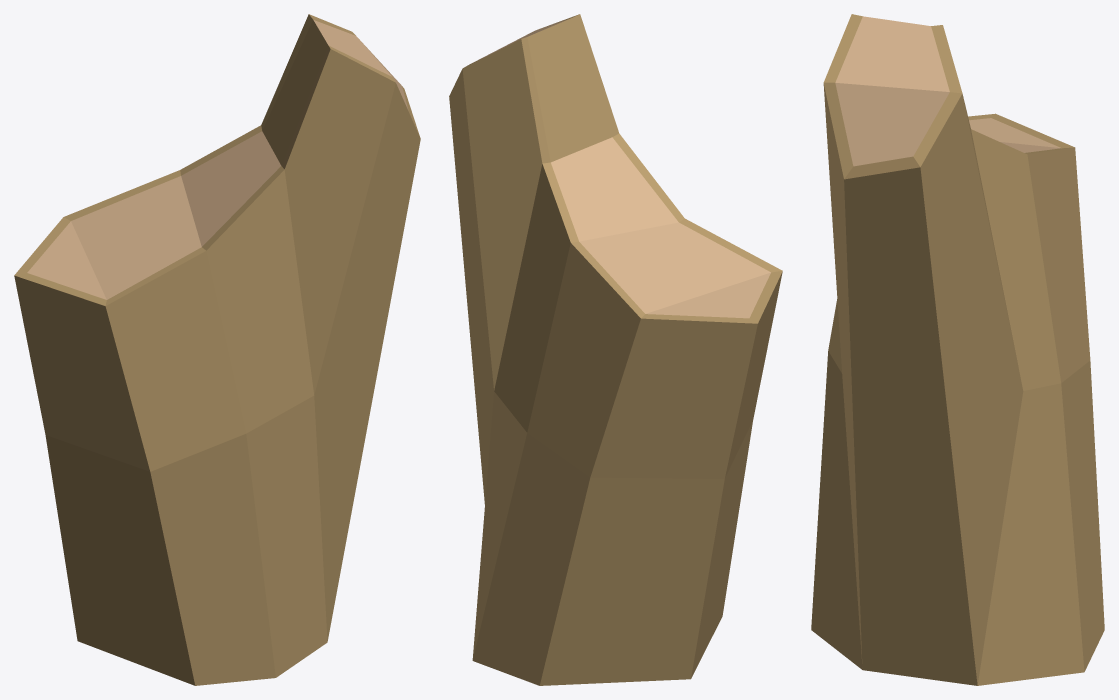
Rendered from Acacia_Stump_02_LOD.fbx.
The picture shows the model from 3 angles, left to right: view 1: azimuth 30°, elevation 25°; view 2: azimuth 150°, elevation 25°; view 3: azimuth 270°, elevation 25°; orthographic projection. The views are drawn at different scales.
Visible parts, largest first — view 1: Acacia_Stump_02_LOD0; view 2: Acacia_Stump_02_LOD0; view 3: Acacia_Stump_02_LOD0.
Part boxes in pixels (x1,y1,x2,y2): Acacia_Stump_02_LOD0: (14, 14, 420, 685); Acacia_Stump_02_LOD0: (449, 14, 782, 685); Acacia_Stump_02_LOD0: (811, 14, 1104, 685).
Size of what is drawn, in the model's own units: 110 by 176 by 71.53.
